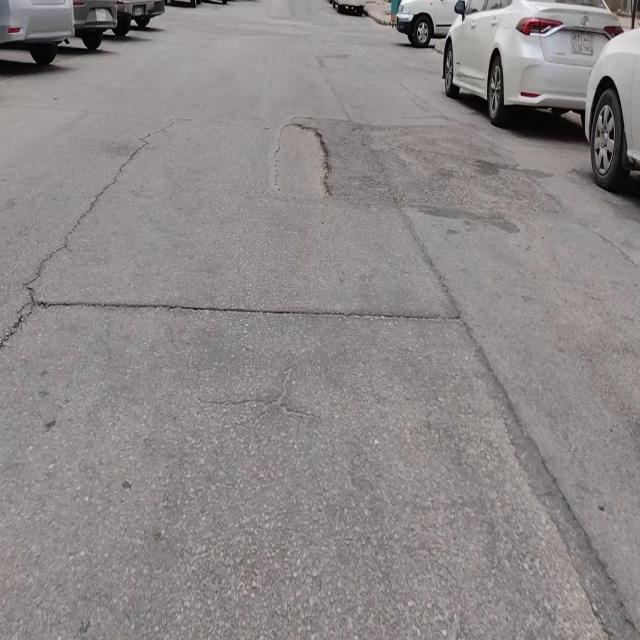Pothole: (274, 122, 331, 199)
